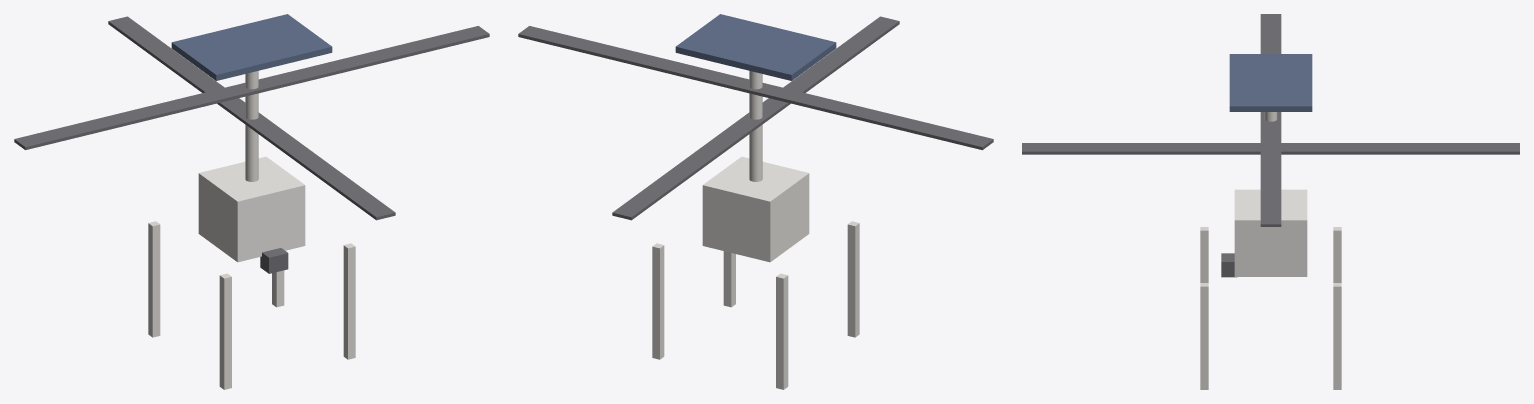
File: ingenuity.glb
3 views of the same model, side by side, from view 1: azimuth 30°, elevation 25°; view 2: azimuth 150°, elevation 25°; view 3: azimuth 270°, elevation 25° (orthographic). The views are drawn at different scales.
Parts seen in each view (by area): view 1: body, rotor_upper, solar_panel, rotor_lower, leg_0, leg_1, leg_3, rotor_mast, camera, leg_2; view 2: body, rotor_upper, solar_panel, rotor_lower, leg_0, leg_1, leg_2, rotor_mast, leg_3; view 3: body, rotor_lower, solar_panel, rotor_upper, leg_2, leg_3, leg_0, leg_1.
Boxes of the visible parts, x1=… form: body: x1=198, y1=156, x2=305, y2=262; rotor_upper: x1=14, y1=26, x2=489, y2=150; solar_panel: x1=171, y1=14, x2=332, y2=80; rotor_lower: x1=108, y1=16, x2=395, y2=220; leg_0: x1=148, y1=221, x2=160, y2=337; leg_1: x1=219, y1=273, x2=231, y2=389; leg_3: x1=343, y1=243, x2=355, y2=359; rotor_mast: x1=245, y1=71, x2=258, y2=181; camera: x1=260, y1=248, x2=288, y2=273; leg_2: x1=272, y1=270, x2=284, y2=307; body: x1=702, y1=156, x2=809, y2=262; rotor_upper: x1=518, y1=26, x2=993, y2=150; solar_panel: x1=675, y1=14, x2=836, y2=80; rotor_lower: x1=612, y1=16, x2=899, y2=220; leg_0: x1=776, y1=273, x2=788, y2=389; leg_1: x1=847, y1=221, x2=859, y2=337; leg_2: x1=652, y1=243, x2=664, y2=359; rotor_mast: x1=749, y1=71, x2=762, y2=181; leg_3: x1=723, y1=251, x2=735, y2=307; body: x1=1234, y1=189, x2=1307, y2=276; rotor_lower: x1=1022, y1=143, x2=1519, y2=154; solar_panel: x1=1229, y1=54, x2=1312, y2=111; rotor_upper: x1=1260, y1=14, x2=1281, y2=226; leg_2: x1=1333, y1=283, x2=1341, y2=389; leg_3: x1=1200, y1=283, x2=1208, y2=389; leg_0: x1=1333, y1=227, x2=1341, y2=282; leg_1: x1=1200, y1=227, x2=1208, y2=282.
Size of the model in its own units: 2.4 by 1.49 by 2.4.
